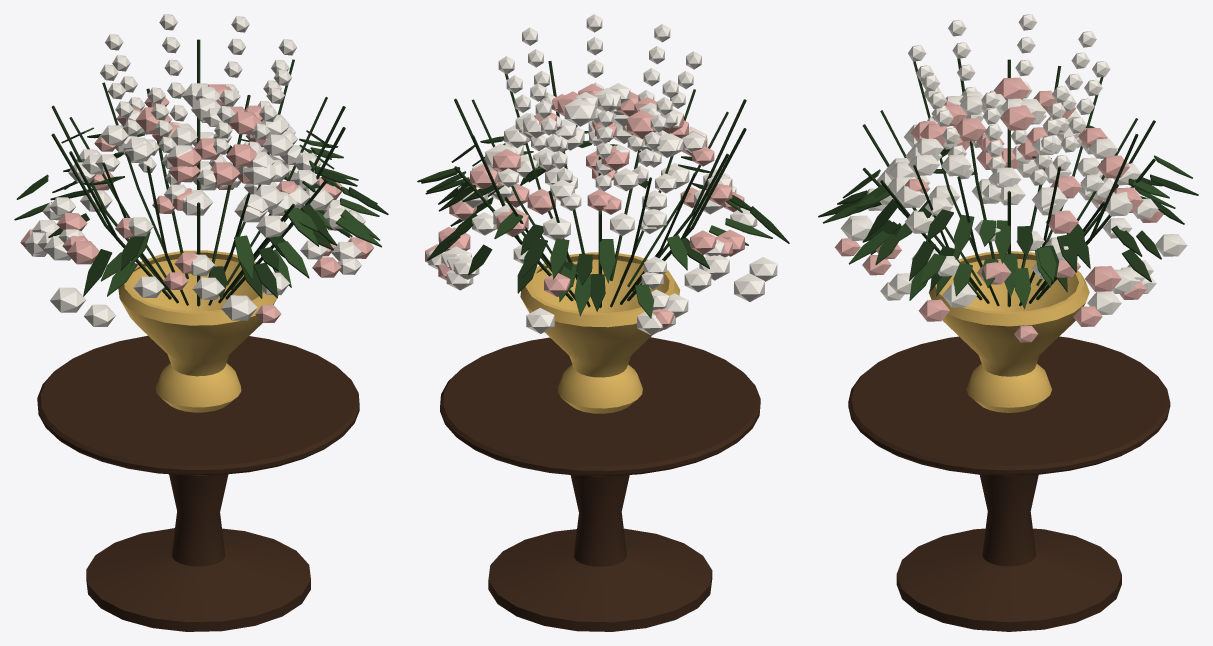
File: flower_table.glb
3 renders of one model, left to right at view 1: azimuth 30°, elevation 25°; view 2: azimuth 150°, elevation 25°; view 3: azimuth 270°, elevation 25°, orthographic.
Visible parts, largest first — view 1: flower_table; view 2: flower_table; view 3: flower_table.
Part boxes in pixels (x1=…): flower_table: x1=14, y1=14, x2=388, y2=631; flower_table: x1=417, y1=14, x2=789, y2=631; flower_table: x1=818, y1=14, x2=1198, y2=631.
Size of the model in its own units: 1.38 by 2.18 by 1.42.
